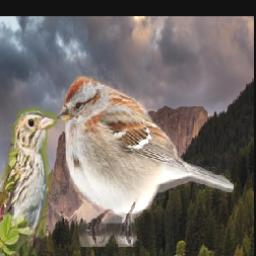Sparrow: (57, 77, 234, 248), (0, 104, 58, 256)
